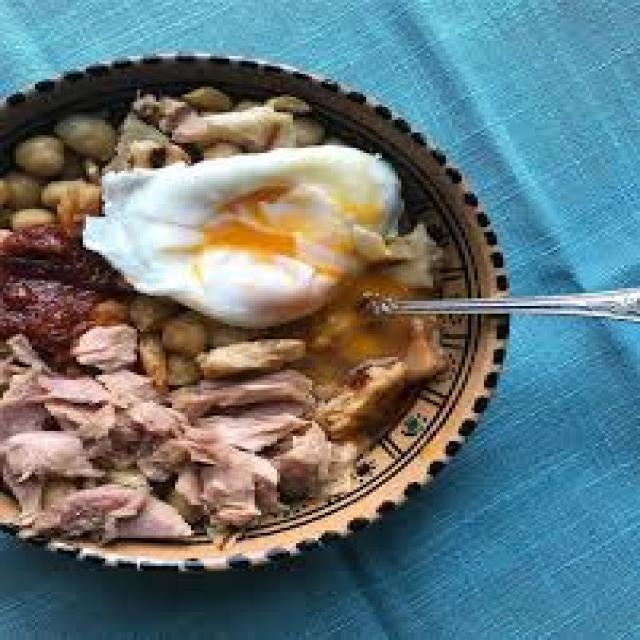Lablabi: (0, 63, 532, 579)
